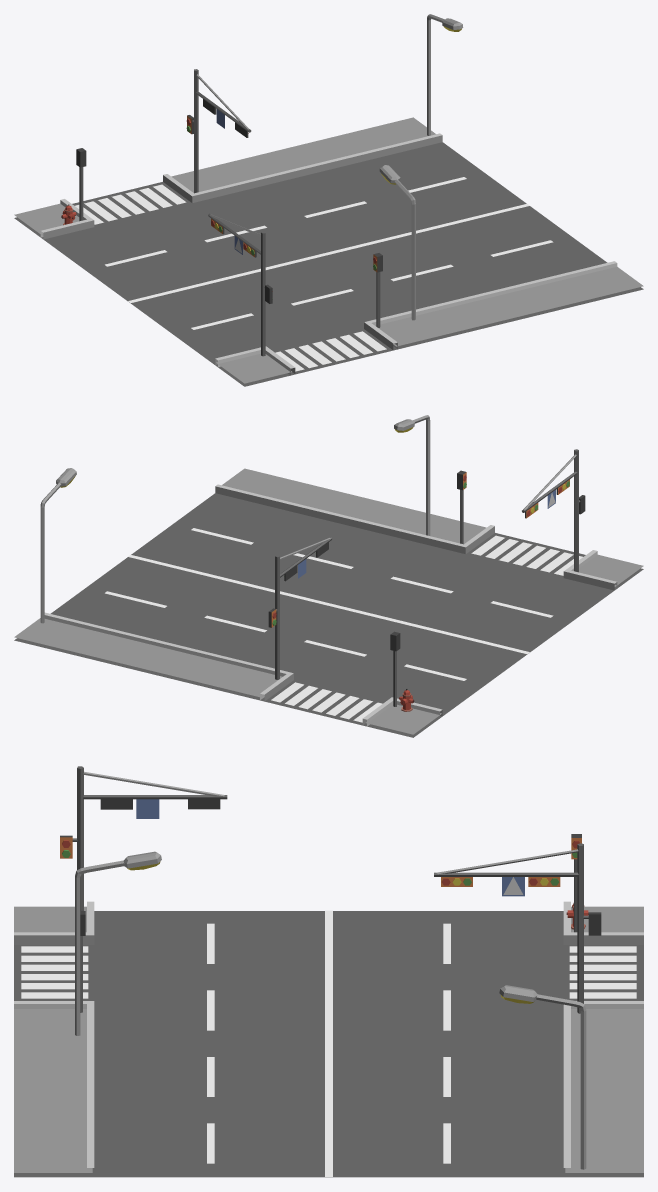
The model's file is road_tile_2x2_008.fbx.
3 renders of one model, top to bottom at view 1: azimuth 30°, elevation 25°; view 2: azimuth 150°, elevation 25°; view 3: azimuth 270°, elevation 25°, orthographic. The views are drawn at different scales.
Visible parts, largest first — view 1: road_tile_2x2_008; view 2: road_tile_2x2_008; view 3: road_tile_2x2_008.
Boxes of the visible parts, bbox=[...] form: road_tile_2x2_008: bbox=[14, 14, 643, 386]; road_tile_2x2_008: bbox=[14, 415, 643, 737]; road_tile_2x2_008: bbox=[14, 766, 643, 1177].
Bounding box in the file's own units: 1600 × 525 × 1600.
